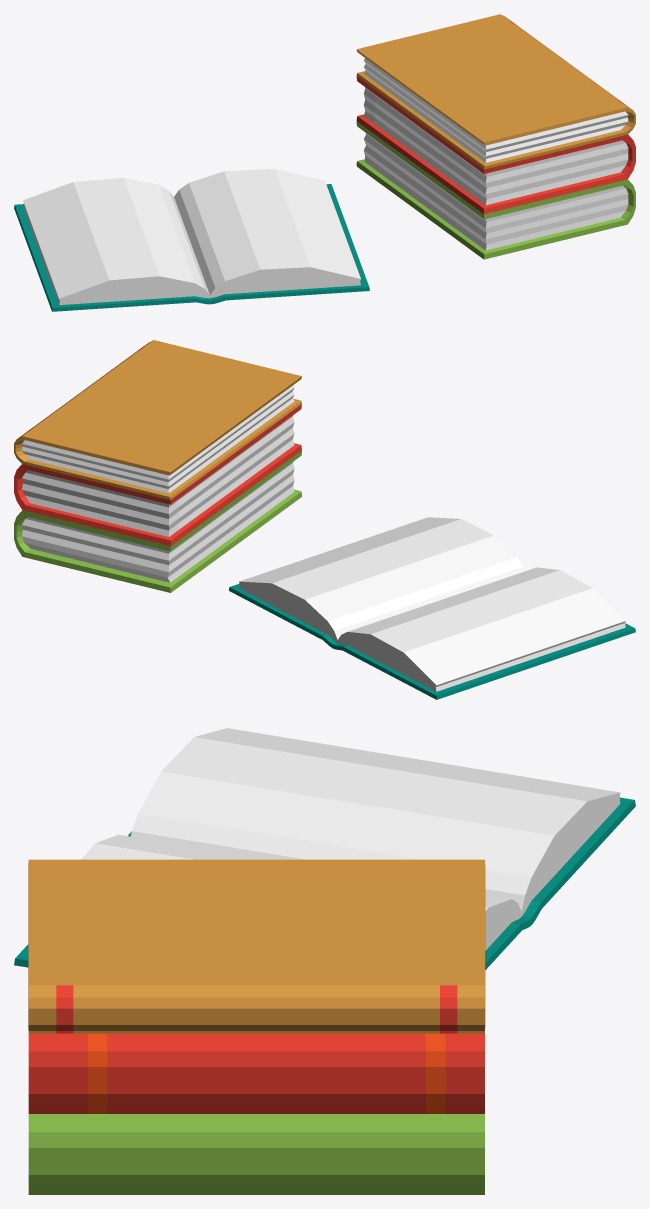
The model's file is Book.glb.
3 views of the same model, one above another, from view 1: azimuth 30°, elevation 25°; view 2: azimuth 150°, elevation 25°; view 3: azimuth 270°, elevation 25° (orthographic). The views are drawn at different scales.
Parts seen in each view (by area): view 1: book_Cube.026, Book1_Cube.025, book3_Cube, book2_Cube.024; view 2: book_Cube.026, Book1_Cube.025, book3_Cube, book2_Cube.024; view 3: Book1_Cube.025, book_Cube.026, book3_Cube, book2_Cube.024.
Boxes of the visible parts, <box> form: book_Cube.026: <box>14,168,369,311</box>; Book1_Cube.025: <box>356,14,635,169</box>; book3_Cube: <box>356,121,635,259</box>; book2_Cube.024: <box>356,76,635,214</box>; book_Cube.026: <box>229,517,635,699</box>; Book1_Cube.025: <box>14,340,301,500</box>; book3_Cube: <box>14,450,301,592</box>; book2_Cube.024: <box>14,404,301,546</box>; Book1_Cube.025: <box>28,859,485,1033</box>; book_Cube.026: <box>14,728,635,969</box>; book3_Cube: <box>28,1114,484,1194</box>; book2_Cube.024: <box>28,1033,484,1113</box>.
Bounding box in the file's own units: 36.82 × 7.94 × 20.92.
